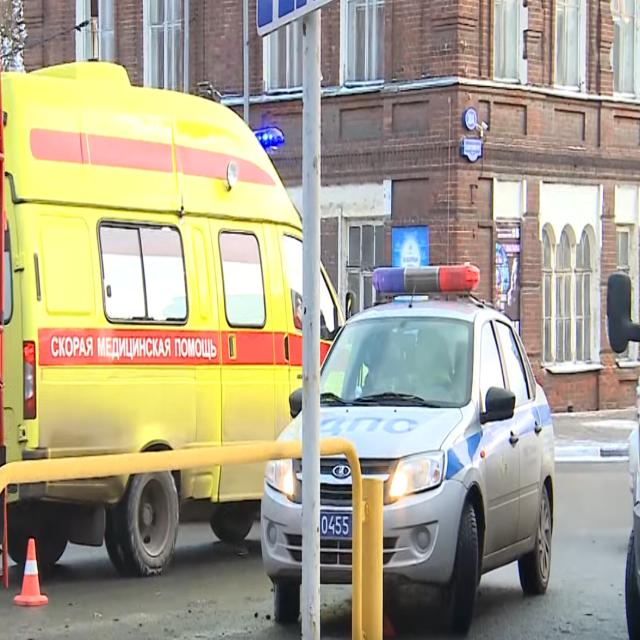intensive care unit: (3, 53, 351, 579)
police car: (262, 265, 552, 636)
